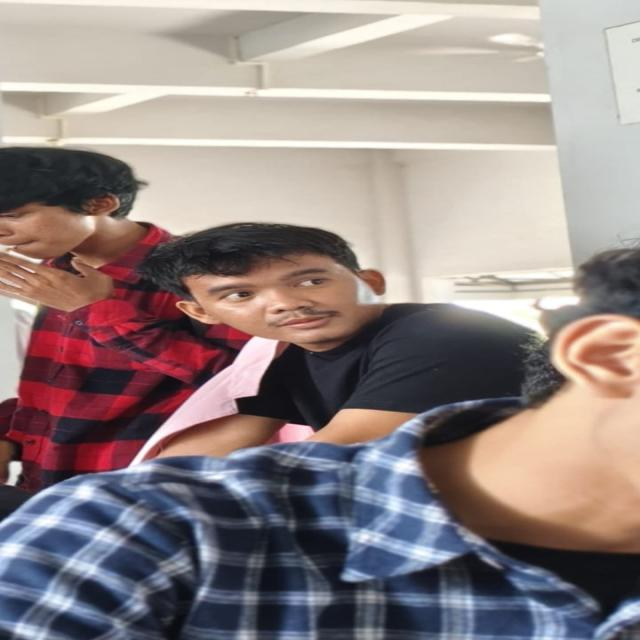sem_oculos: (185, 281, 400, 302), (0, 204, 104, 235)
